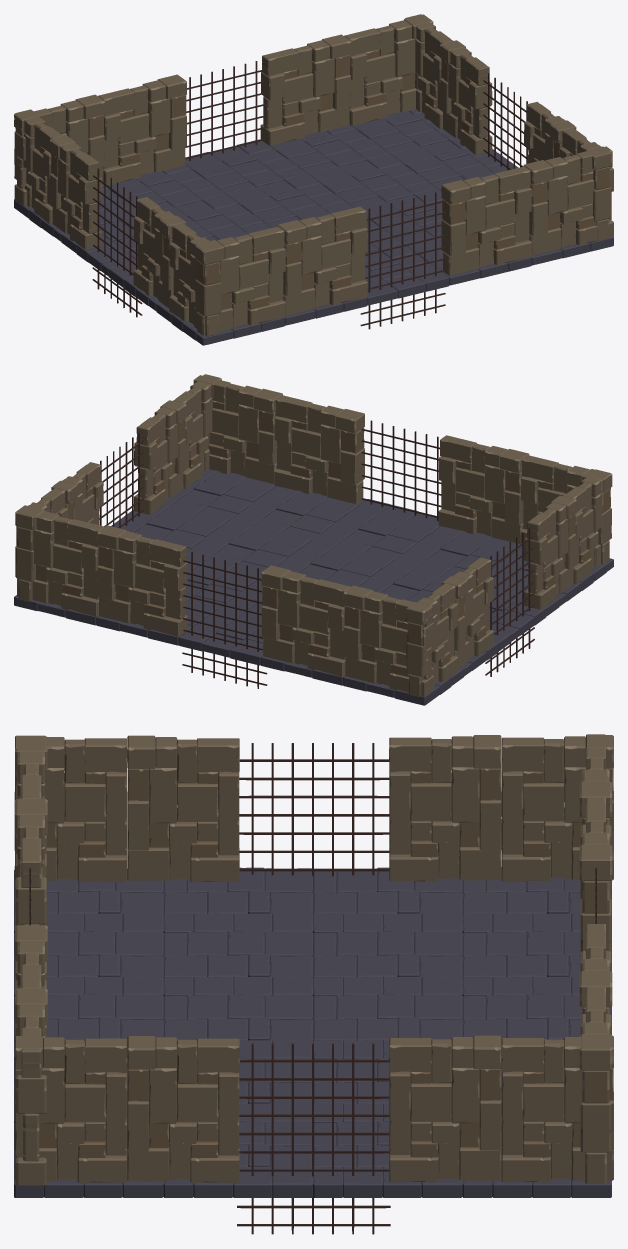
File: room2.glb
The picture shows the model from 3 angles, top to bottom: view 1: azimuth 30°, elevation 25°; view 2: azimuth 150°, elevation 25°; view 3: azimuth 270°, elevation 25°; orthographic projection. The views are drawn at different scales.
Parts seen in each view (by area): view 1: Arch_bars_Cube.001; view 2: Arch_bars_Cube.001; view 3: Arch_bars_Cube.001.
Boxes of the visible parts, box(x1,y1,x2,y2) form: Arch_bars_Cube.001: box(14, 14, 613, 345); Arch_bars_Cube.001: box(14, 374, 613, 705); Arch_bars_Cube.001: box(14, 734, 613, 1234).
Size of the model in its own units: 10.05 by 2.85 by 8.03.
